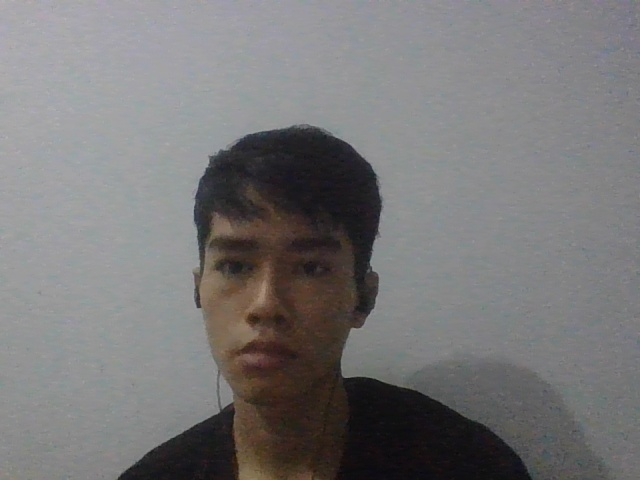real: (168, 102, 392, 419)
